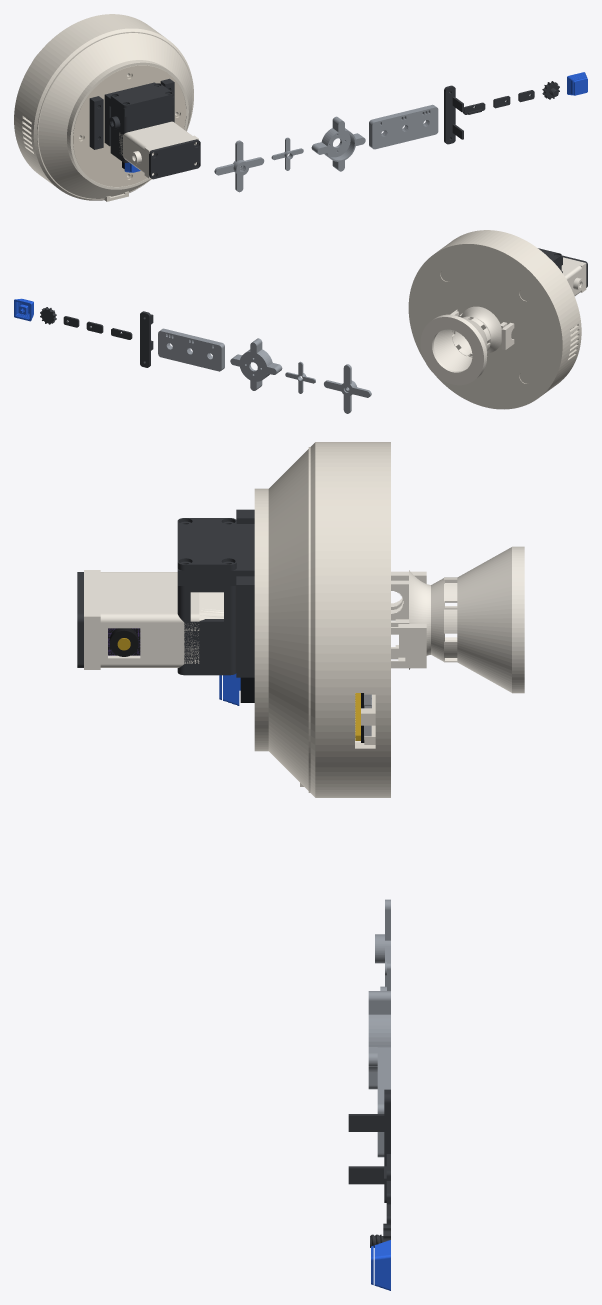
Rendered from hotaru-rig.glb.
3 views of the same model, one above another, from view 1: azimuth 30°, elevation 25°; view 2: azimuth 150°, elevation 25°; view 3: azimuth 270°, elevation 25° (orthographic). The views are drawn at different scales.
Visible parts, largest first — view 1: shoulder, base, lid, base-joint, spline-test, arm-lower, cap-shoulder, horn-adapter, cap-base, spk-clamp, horn-mg996r, keycap (+1 smaller); view 2: base, shade, spline-test, horn-adapter, arm-lower, horn-mg996r, spk-clamp, keycap, horn-sg90; view 3: base, shoulder, shade, arm-lower, base-joint, cap-base, spk-clamp, horn-adapter.
Part boxes in pixels (bbox=[...]): shoulder: bbox=[33, 28, 193, 200]; base: bbox=[14, 14, 165, 201]; lid: bbox=[73, 65, 186, 186]; base-joint: bbox=[89, 78, 174, 162]; spline-test: bbox=[369, 104, 438, 149]; arm-lower: bbox=[119, 121, 198, 178]; cap-shoulder: bbox=[149, 139, 200, 179]; horn-adapter: bbox=[311, 116, 365, 171]; cap-base: bbox=[110, 83, 173, 108]; spk-clamp: bbox=[444, 85, 463, 144]; horn-mg996r: bbox=[214, 140, 264, 192]; keycap: bbox=[567, 72, 587, 95]; base: bbox=[408, 230, 581, 409]; shade: bbox=[420, 306, 507, 385]; spline-test: bbox=[158, 328, 224, 371]; horn-adapter: bbox=[230, 338, 282, 390]; arm-lower: bbox=[450, 257, 586, 350]; horn-mg996r: bbox=[324, 364, 371, 413]; spk-clamp: bbox=[140, 311, 153, 367]; keycap: bbox=[14, 298, 33, 321]; horn-sg90: bbox=[285, 361, 315, 393]; base: bbox=[300, 442, 390, 797]; shoulder: bbox=[254, 442, 315, 797]; shade: bbox=[391, 546, 524, 693]; arm-lower: bbox=[84, 570, 426, 669]; base-joint: bbox=[177, 509, 254, 677]; cap-base: bbox=[177, 518, 236, 570]; spk-clamp: bbox=[348, 1089, 390, 1202]; horn-adapter: bbox=[368, 991, 390, 1089].
Size of the model in its own units: 570 by 203 by 201.
